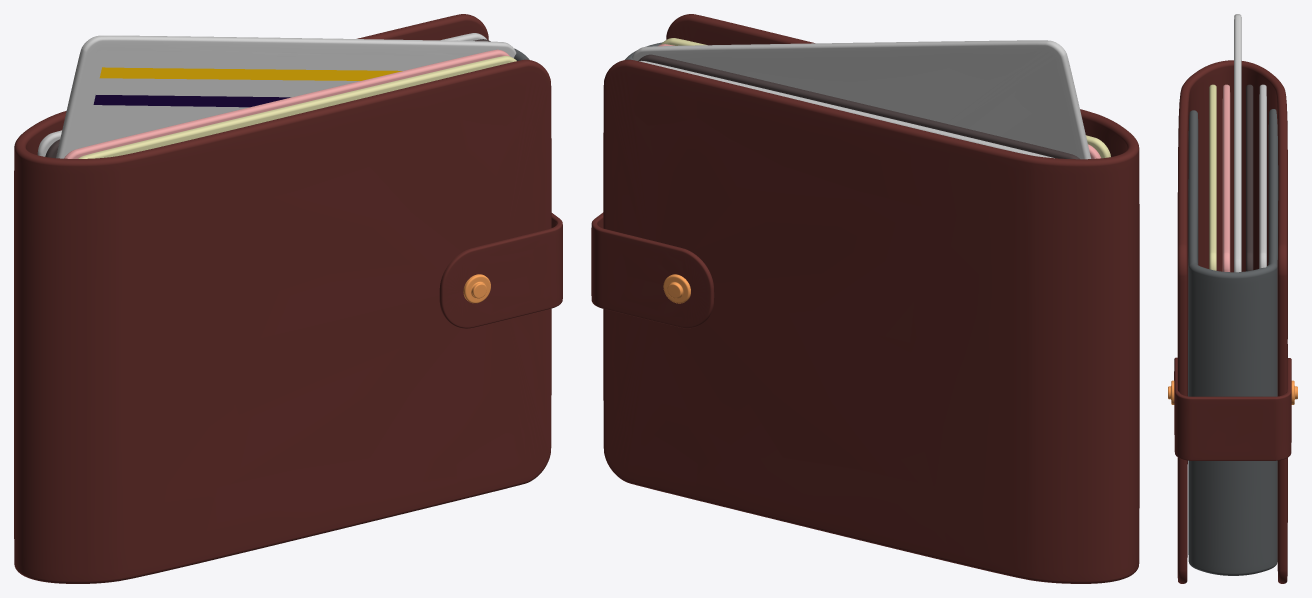
File: wallet.glb
The picture shows the model from 3 angles, left to right: view 1: azimuth 30°, elevation 25°; view 2: azimuth 150°, elevation 25°; view 3: azimuth 270°, elevation 25°; orthographic projection. The views are drawn at different scales.
Visible parts, largest first — view 1: Vert; view 2: Vert; view 3: Vert.
Boxes of the visible parts, x1,y1,x2,y2 form: Vert: [14, 14, 562, 583]; Vert: [591, 14, 1139, 583]; Vert: [1168, 14, 1297, 583].
Size of the model in its own units: 1.91 by 1.83 by 0.5207.
